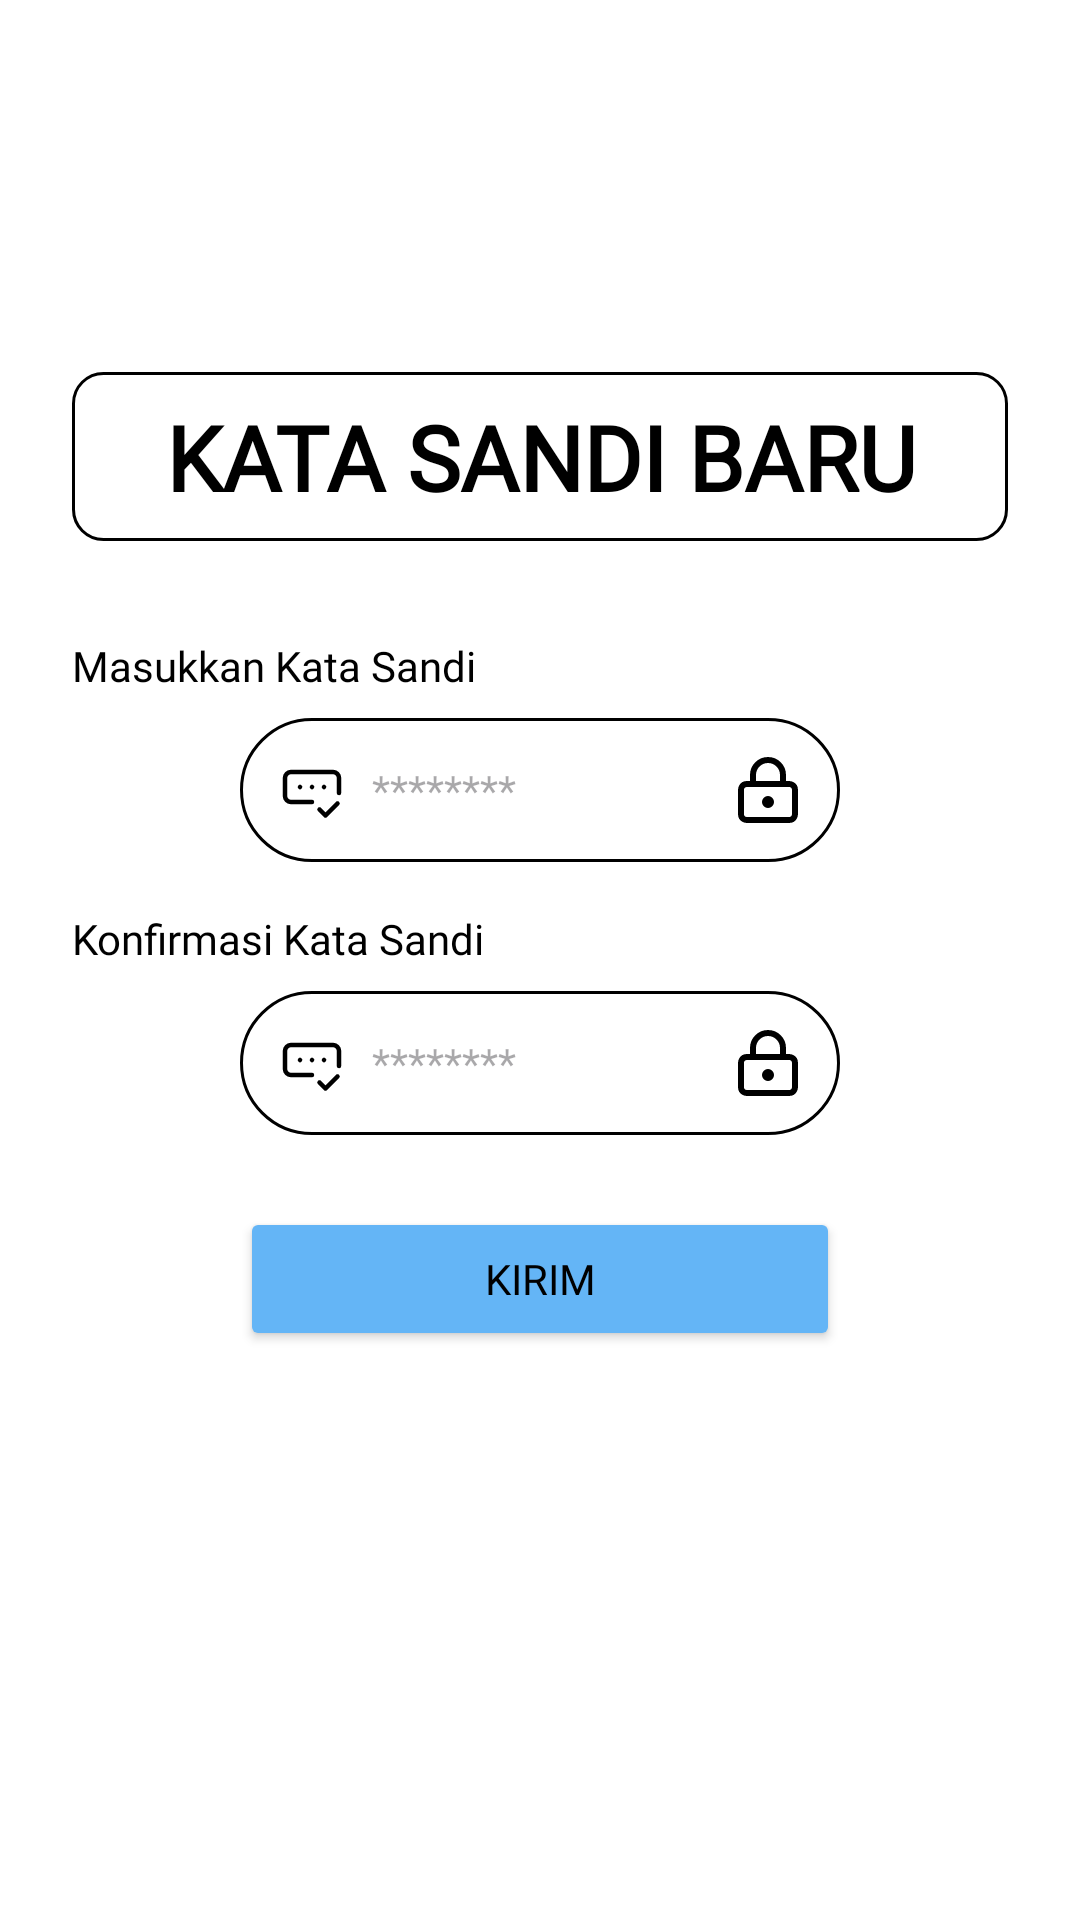

Screen size 1080*1920. Icon name, then its box in pixels as [x1,y1,x2,y2]:
iconoir password check: [282,769,342,818], [282,1042,342,1091]
lock: [738,757,798,823], [738,1030,798,1096]
